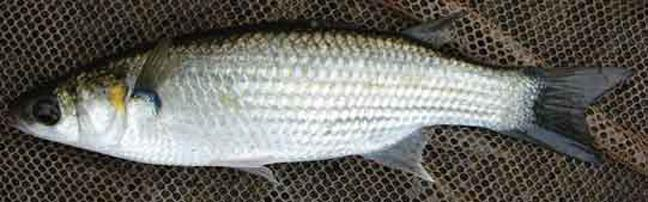Mullet: (0, 11, 632, 192)
